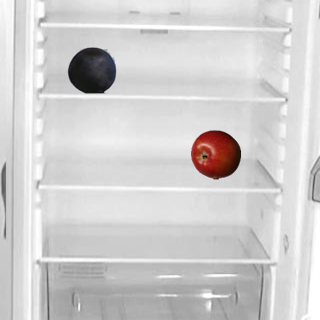Apple Braeburn: (190, 129, 240, 179)
Grape Blue: (66, 44, 116, 94)
